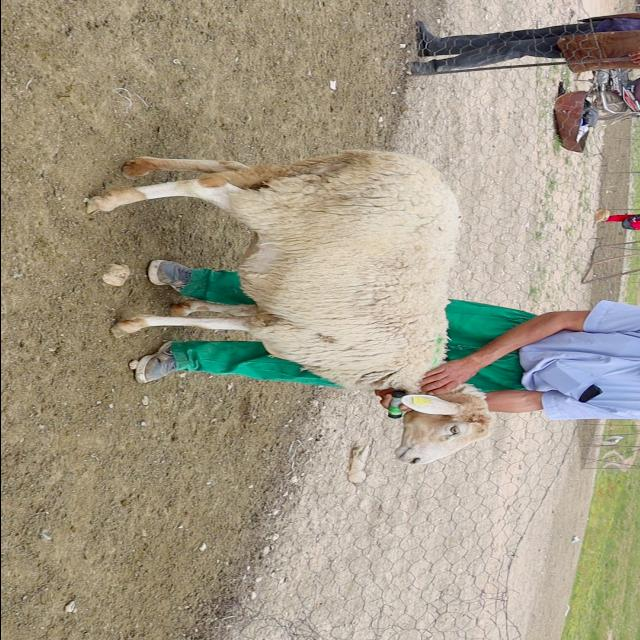Score_5: (87, 149, 494, 463)
